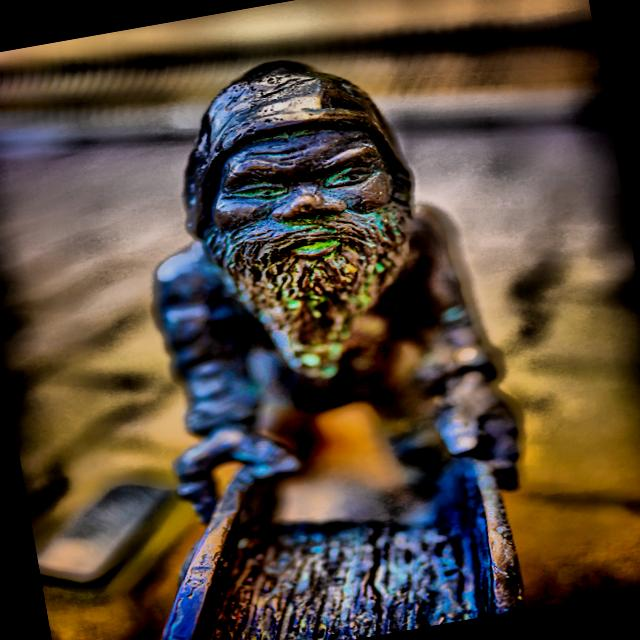Lappek: (157, 60, 522, 640)
